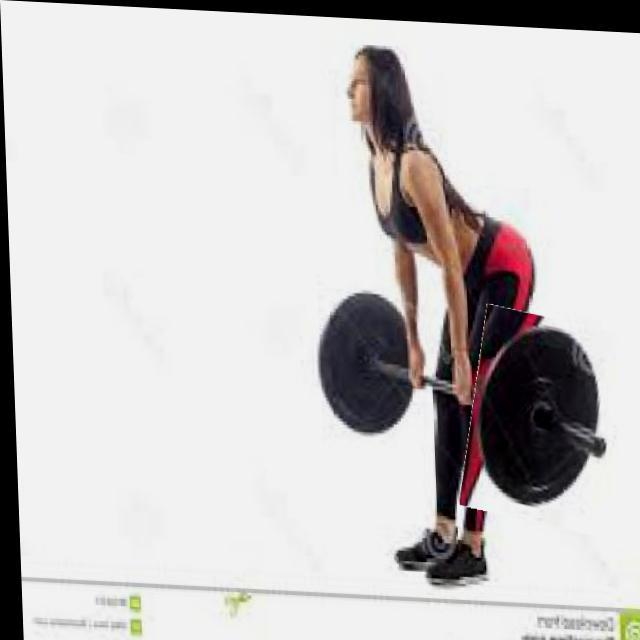barbell: (459, 304, 621, 527)
